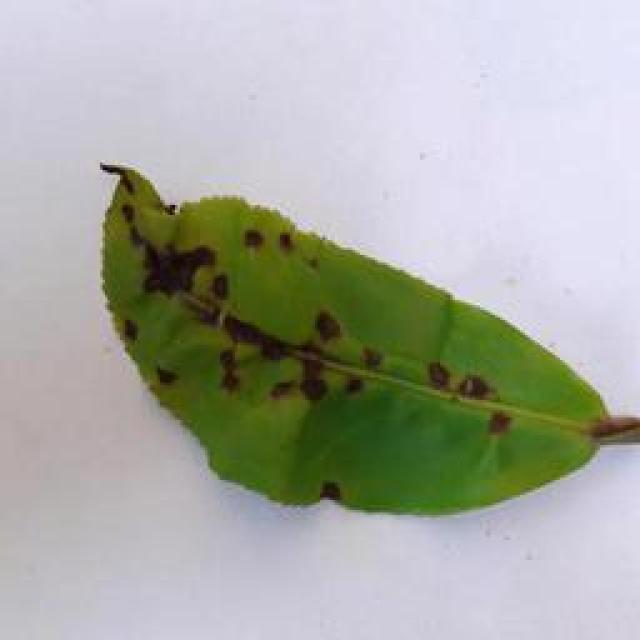Helopeltis: (91, 154, 635, 536)
